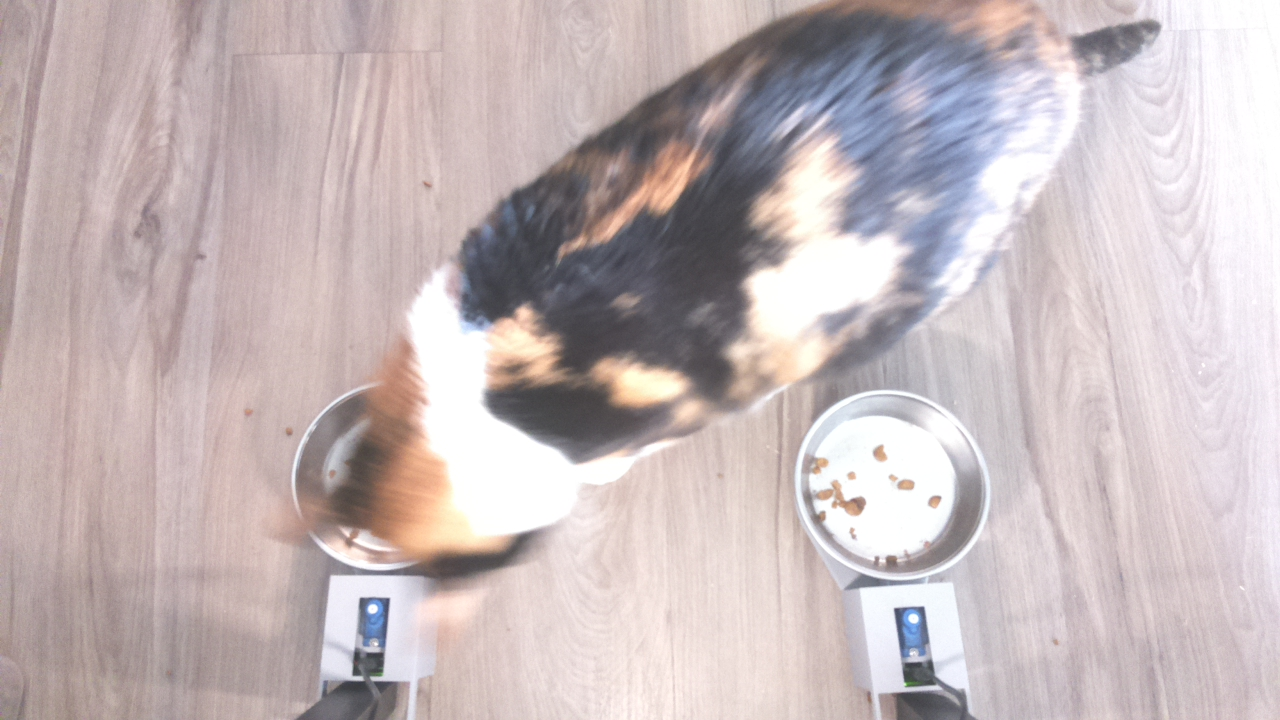bella_eating: (271, 292, 583, 586)
open_bowl: (787, 382, 997, 582)
